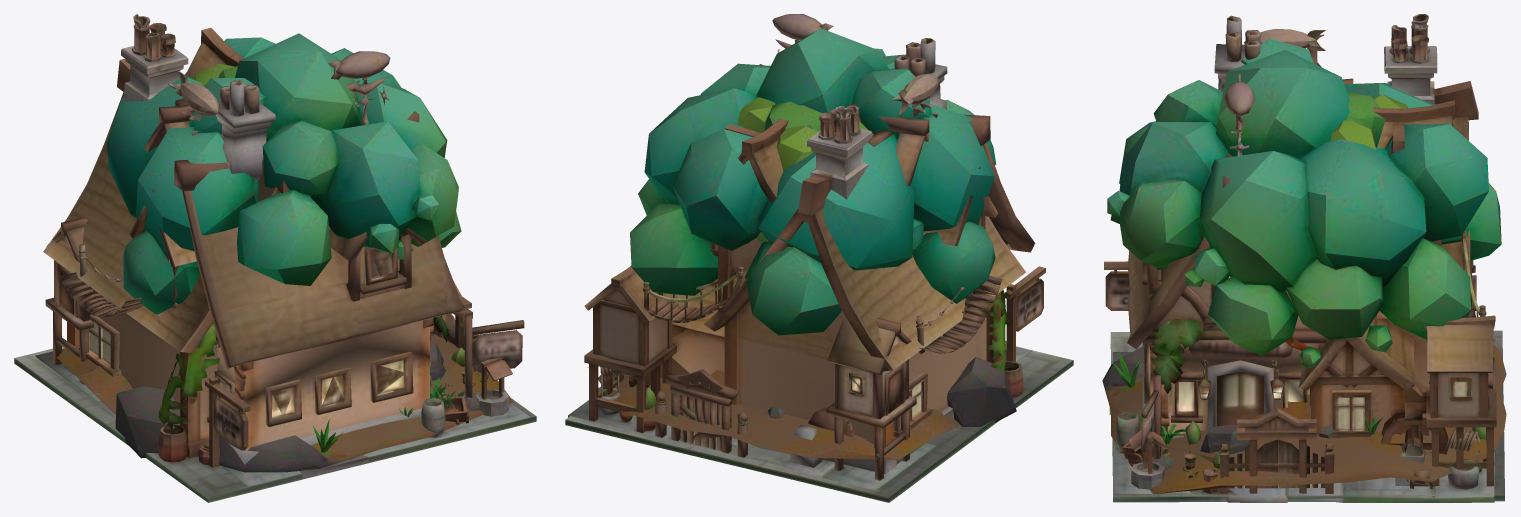
The model's file is tripo_env.glb.
The picture shows the model from 3 angles, left to right: view 1: azimuth 30°, elevation 25°; view 2: azimuth 150°, elevation 25°; view 3: azimuth 270°, elevation 25°; orthographic projection. The views are drawn at different scales.
Visible parts, largest first — view 1: cottage_b, tree_tripo, cottage_a, tree_central; view 2: cottage_a, tree_tripo, cottage_b, tree_central; view 3: tree_tripo, cottage_a, cottage_b, tree_central.
Boxes of the visible parts, x1=… form: cottage_b: x1=35, y1=51, x2=529, y2=486; tree_tripo: x1=106, y1=33, x2=461, y2=314; cottage_a: x1=14, y1=14, x2=536, y2=502; tree_central: x1=57, y1=63, x2=513, y2=472; cottage_a: x1=565, y1=73, x2=1073, y2=502; tree_tripo: x1=630, y1=28, x2=996, y2=335; cottage_b: x1=568, y1=14, x2=1034, y2=490; tree_central: x1=598, y1=97, x2=1016, y2=459; tree_tripo: x1=1107, y1=38, x2=1501, y2=367; cottage_a: x1=1104, y1=14, x2=1504, y2=502; cottage_b: x1=1113, y1=15, x2=1495, y2=502; tree_central: x1=1102, y1=93, x2=1506, y2=494.
Size of the model in its own units: 0.998 by 0.9998 by 1.01.
Materials: 9 (9 with a texture image).
